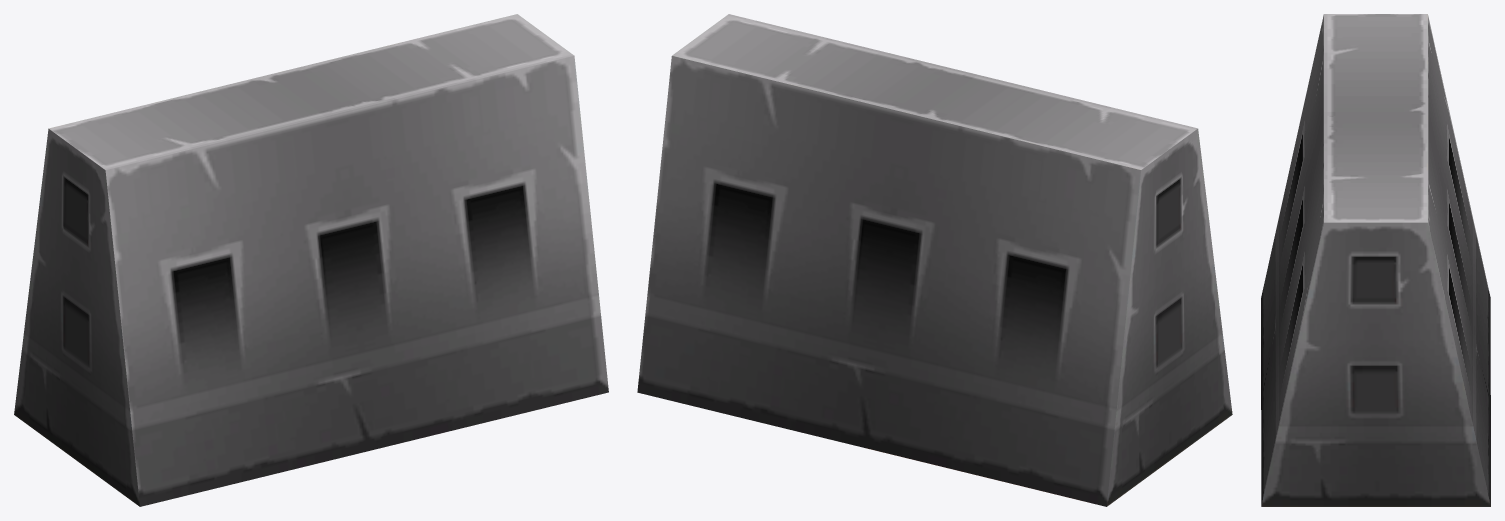
Rendered from SYJ_luzhang01.FBX.
3 views of the same model, side by side, from view 1: azimuth 30°, elevation 25°; view 2: azimuth 150°, elevation 25°; view 3: azimuth 270°, elevation 25° (orthographic). The views are drawn at different scales.
Parts seen in each view (by area): view 1: SYJ_luzhang01; view 2: SYJ_luzhang01; view 3: SYJ_luzhang01.
Boxes of the visible parts, <box> form: SYJ_luzhang01: <box>14,14,608,506</box>; SYJ_luzhang01: <box>637,14,1232,506</box>; SYJ_luzhang01: <box>1261,14,1490,506</box>.
Size of the model in its own units: 60.13 by 38.15 by 27.97.
